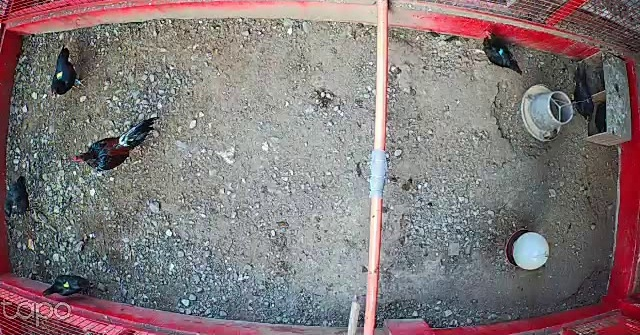Chicken: (468, 26, 524, 77), (48, 42, 88, 101), (569, 62, 597, 131), (39, 270, 95, 303), (4, 176, 33, 218)
Rooster: (71, 112, 163, 179)
Saddle_Color_Blue: (497, 46, 504, 54)
Saddle_Color_Yellow: (63, 281, 72, 288)
Saddle_Color_YellowGreen: (56, 70, 65, 83)
